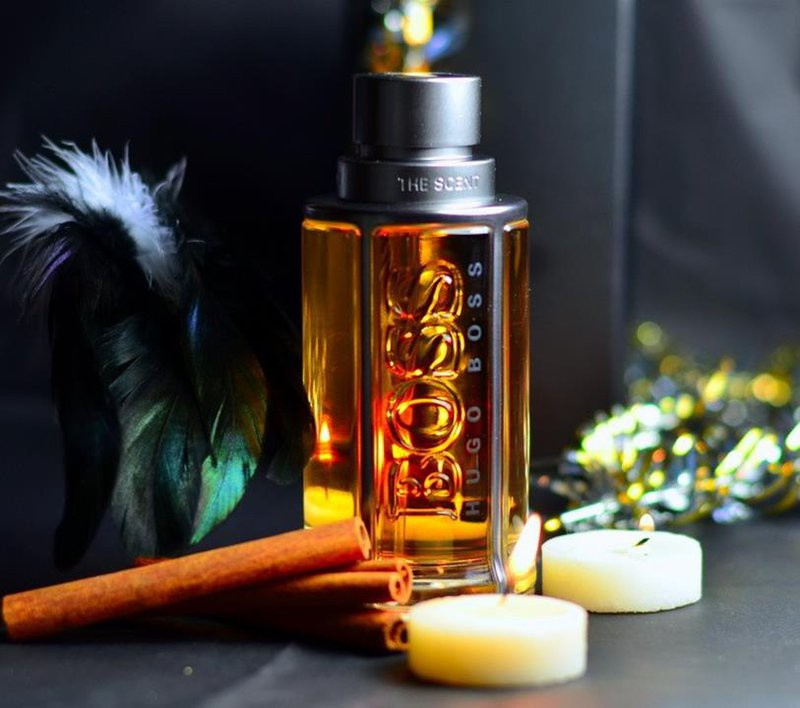Hugo Boss: (463, 259, 486, 527)
